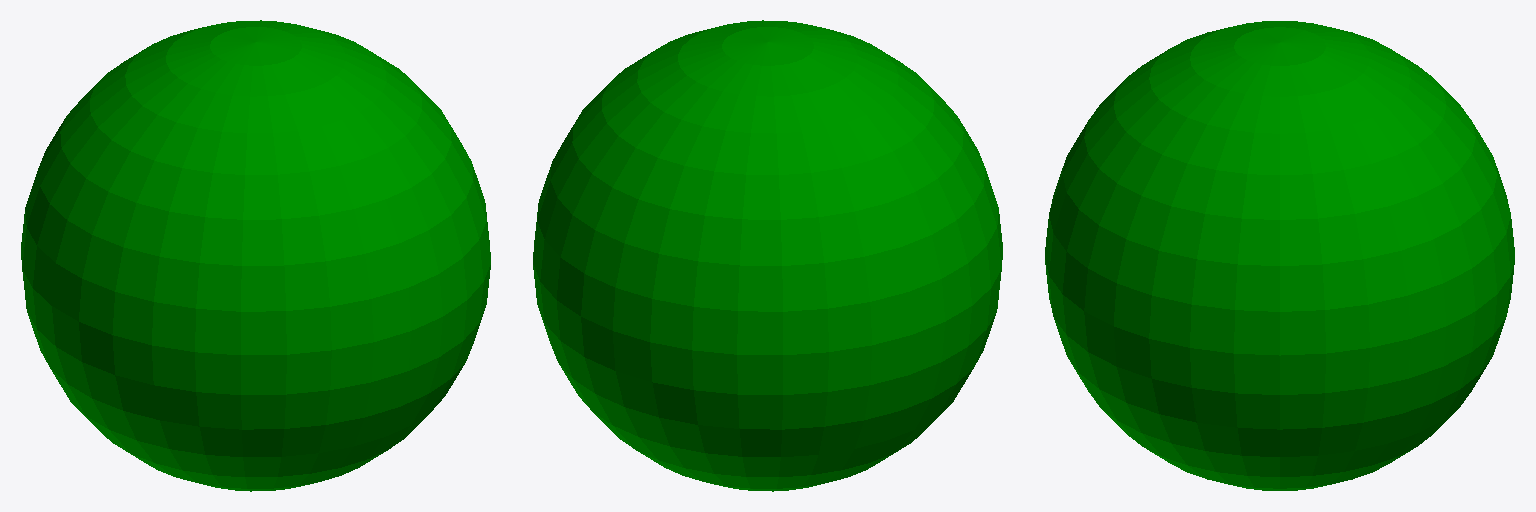
The robot description file, URDF, robot "belt_element_vis":
<?xml version="1.0"?>
<robot name="belt_element_vis">
  <material name="belt_element_material">
    <color rgba="0.0 0.6 0.0 1.0" />
  </material>
  <link name="belt_element_vis">
    <visual>
      <origin rpy="0 0 0" xyz="0 0 0" />
      <geometry>
        <sphere radius="0.005" />
      </geometry>
      <material name="belt_element_material" />
    </visual>
  </link>
</robot>

--- Render facts (derived) ---
3 views of the same robot in one strip: view 1: azimuth 30°, elevation 25°; view 2: azimuth 150°, elevation 25°; view 3: azimuth 270°, elevation 25° (orthographic).
Model belt_element_vis with 1 links and 0 joints (none), rooted at belt_element_vis, posed every joint at zero.
Links seen in each view (by area): view 1: belt_element_vis; view 2: belt_element_vis; view 3: belt_element_vis.
Link boxes in pixels (x1=…): belt_element_vis: x1=21, y1=20, x2=490, y2=491; belt_element_vis: x1=533, y1=20, x2=1002, y2=491; belt_element_vis: x1=1045, y1=21, x2=1514, y2=490.
Bounding box of the posed robot: 0.01 × 0.01 × 0.01 m (x, y, z).
Geometry: primitives only (box / cylinder / sphere), no mesh files.
